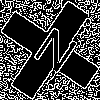N: (25, 25, 81, 84)
